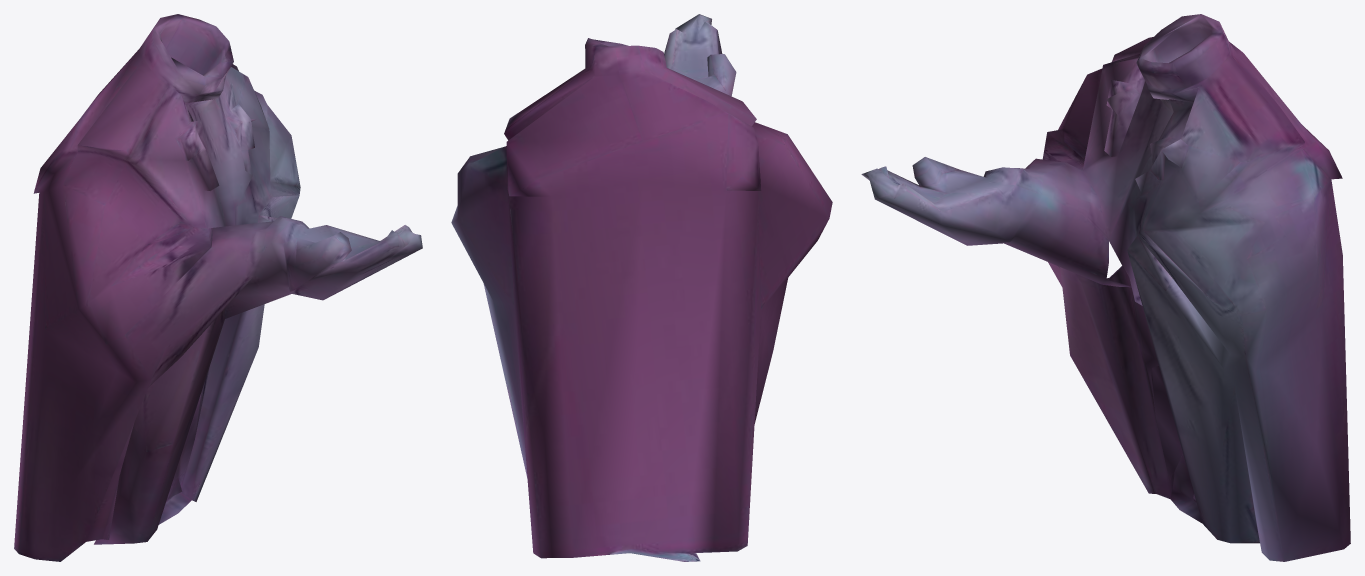
3 views of the same model, side by side, from view 1: azimuth 30°, elevation 25°; view 2: azimuth 150°, elevation 25°; view 3: azimuth 270°, elevation 25° (orthographic). The views are drawn at different scales.
Visible parts, largest first — view 1: tripo_part_6; view 2: tripo_part_6; view 3: tripo_part_6.
Part boxes in pixels (x1,y1,x2,y2): tripo_part_6: (14,14,422,561); tripo_part_6: (451,14,832,561); tripo_part_6: (861,14,1350,561).
Bounding box in the file's own units: 0.1636 × 0.2621 × 0.2201.
Materials: 1 (1 with a texture image).
